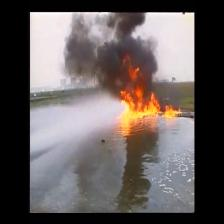fire: (119, 95, 175, 118)
smoke: (67, 39, 147, 81)
